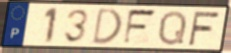1: (42, 7, 60, 44)
3: (64, 8, 90, 43)
D: (90, 7, 124, 46)
F: (121, 8, 158, 47), (186, 10, 222, 47)
Q: (156, 9, 189, 47)
